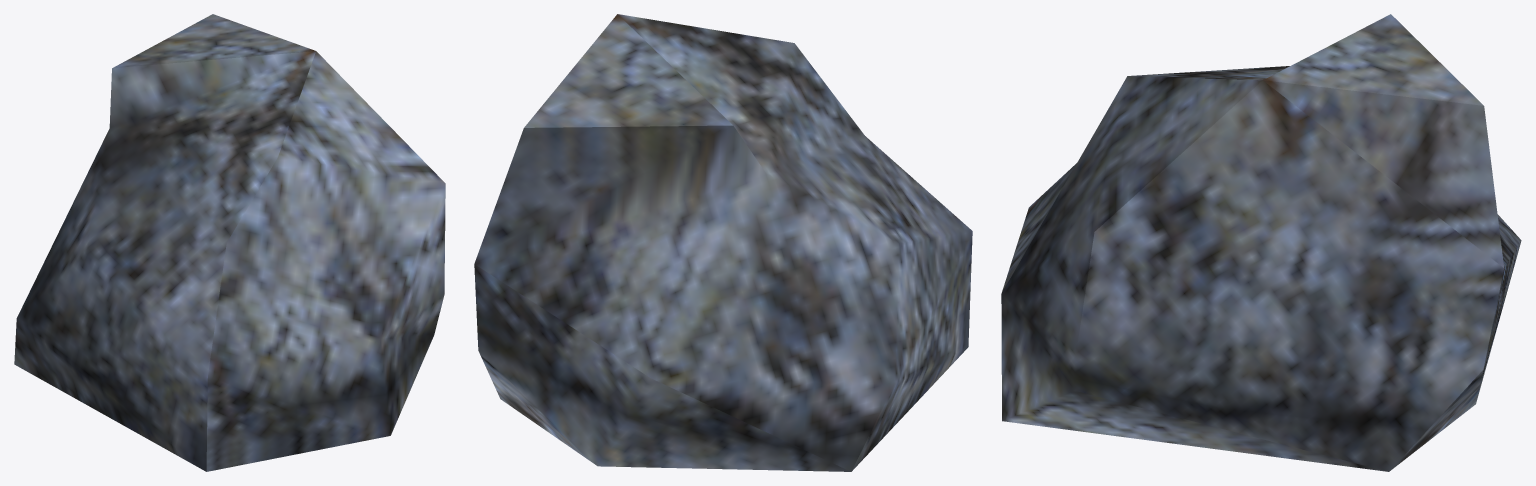
File: Rock_1.fbx
The picture shows the model from 3 angles, left to right: view 1: azimuth 30°, elevation 25°; view 2: azimuth 150°, elevation 25°; view 3: azimuth 270°, elevation 25°; orthographic projection. The views are drawn at different scales.
Visible parts, largest first — view 1: Detal335; view 2: Detal335; view 3: Detal335.
Part boxes in pixels (bbox=[...]): Detal335: bbox=[14, 14, 445, 471]; Detal335: bbox=[474, 14, 972, 471]; Detal335: bbox=[1001, 14, 1521, 471].
Bounding box in the file's own units: 356 × 315 × 405.
